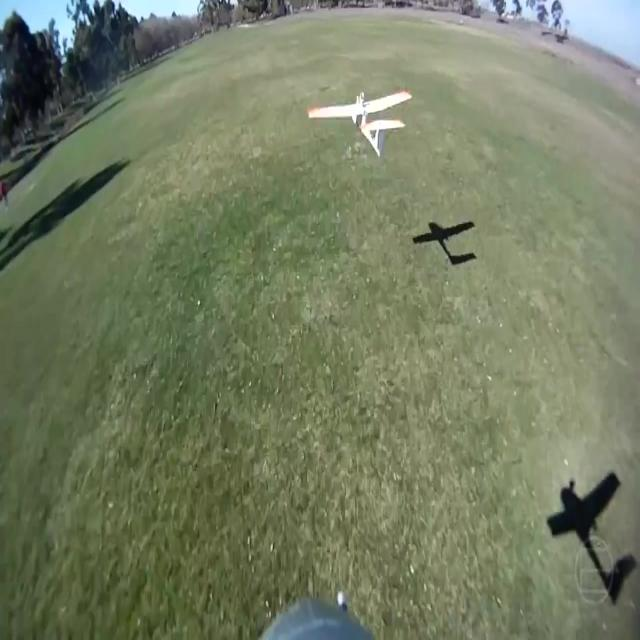iha: (337, 58, 381, 61)
